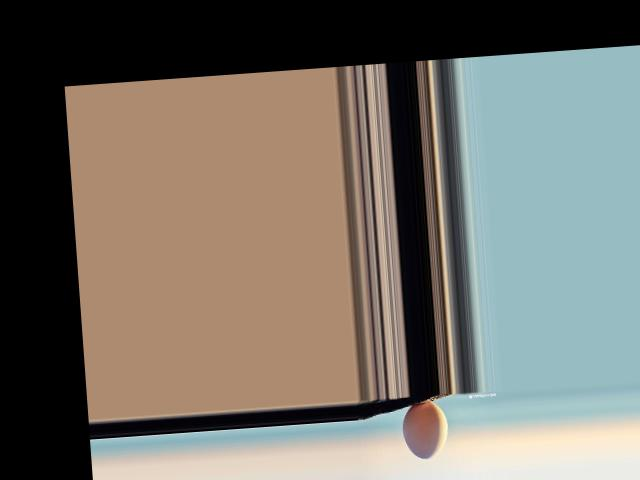egg: (400, 400, 450, 460)
